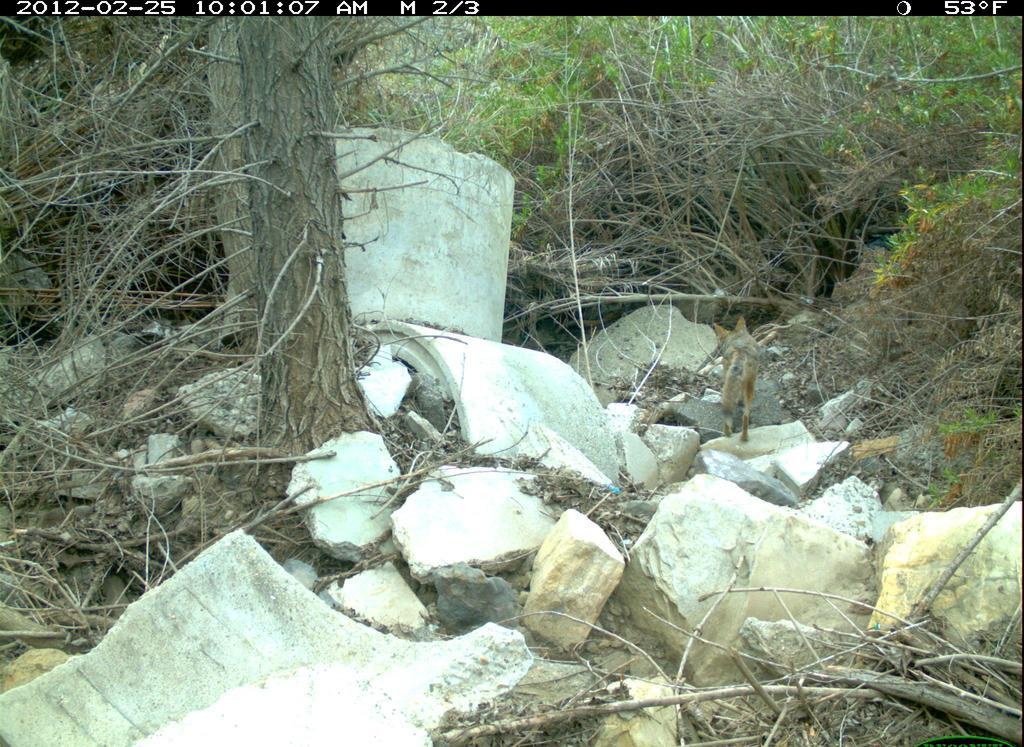coyote: (707, 309, 779, 442)
